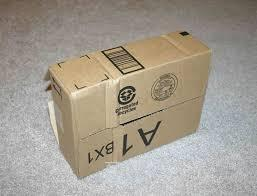box: (46, 31, 212, 179)
